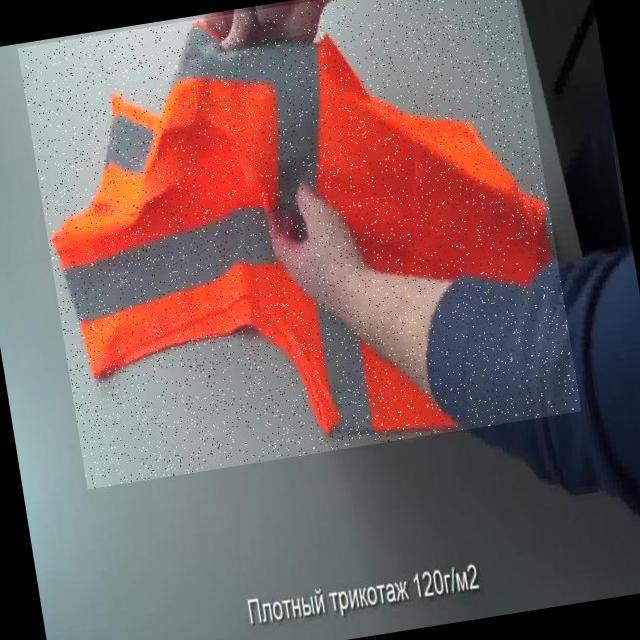Safety Vest: (17, 0, 581, 489)
bare-arms: (253, 165, 367, 303), (184, 1, 336, 53)
